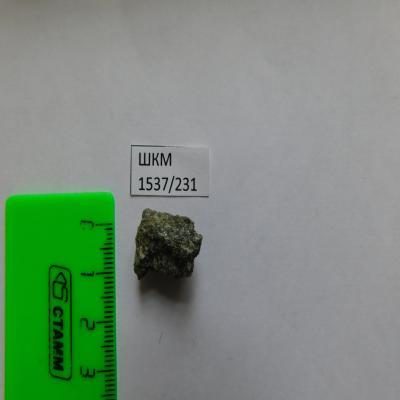mineralogy: (133, 209, 203, 284)
